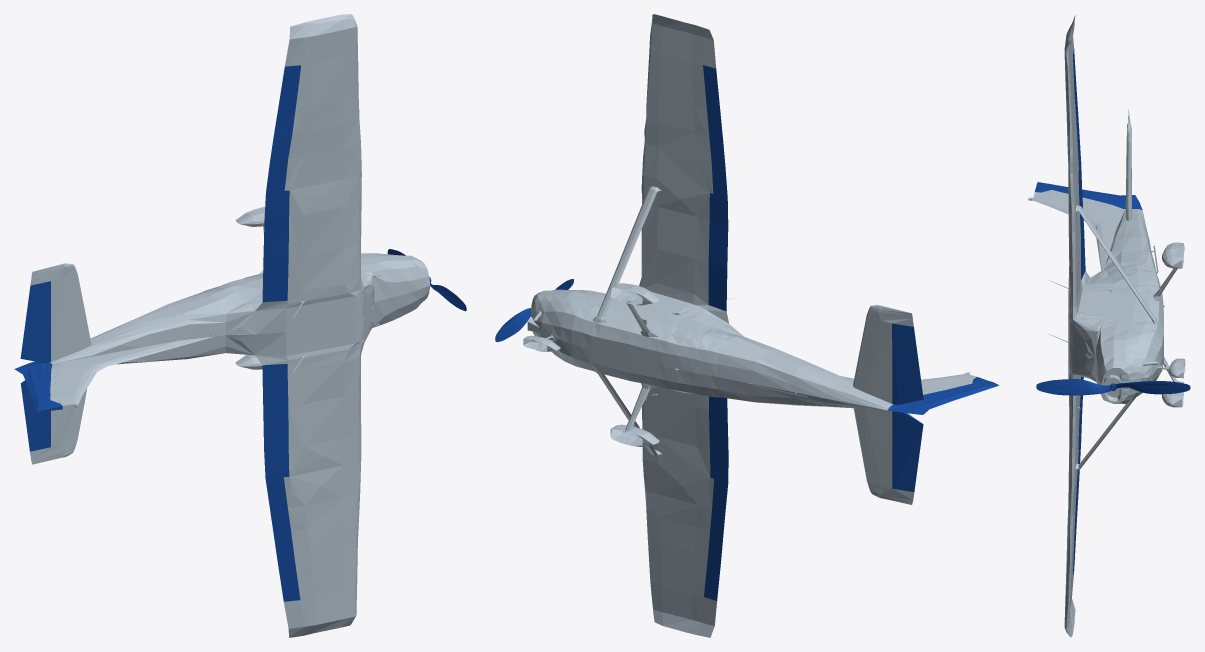
The picture shows the model from 3 angles, left to right: view 1: azimuth 30°, elevation 25°; view 2: azimuth 150°, elevation 25°; view 3: azimuth 270°, elevation 25°; orthographic projection. The views are drawn at different scales.
Size of the model in its own units: 2.21 by 3 by 0.7367.
